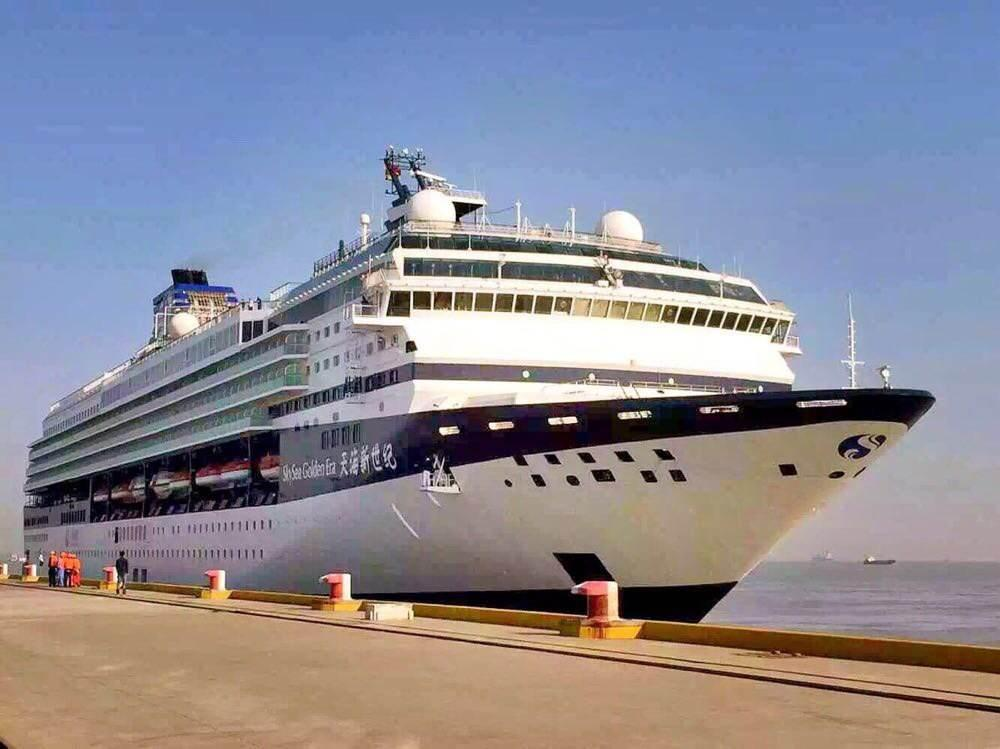youlun: (18, 135, 941, 601)
